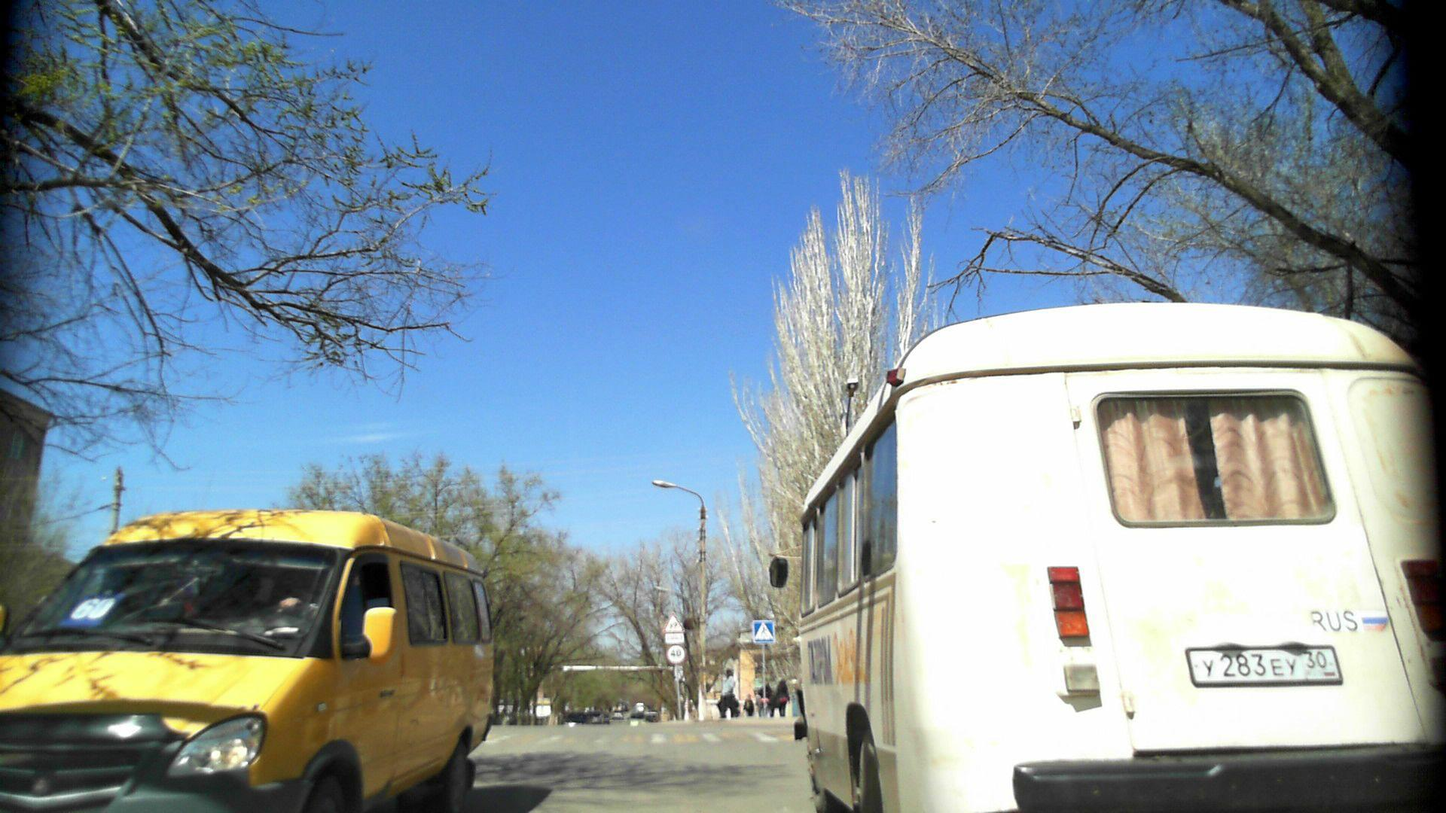road_sign: (752, 620, 775, 645), (667, 645, 686, 664)
